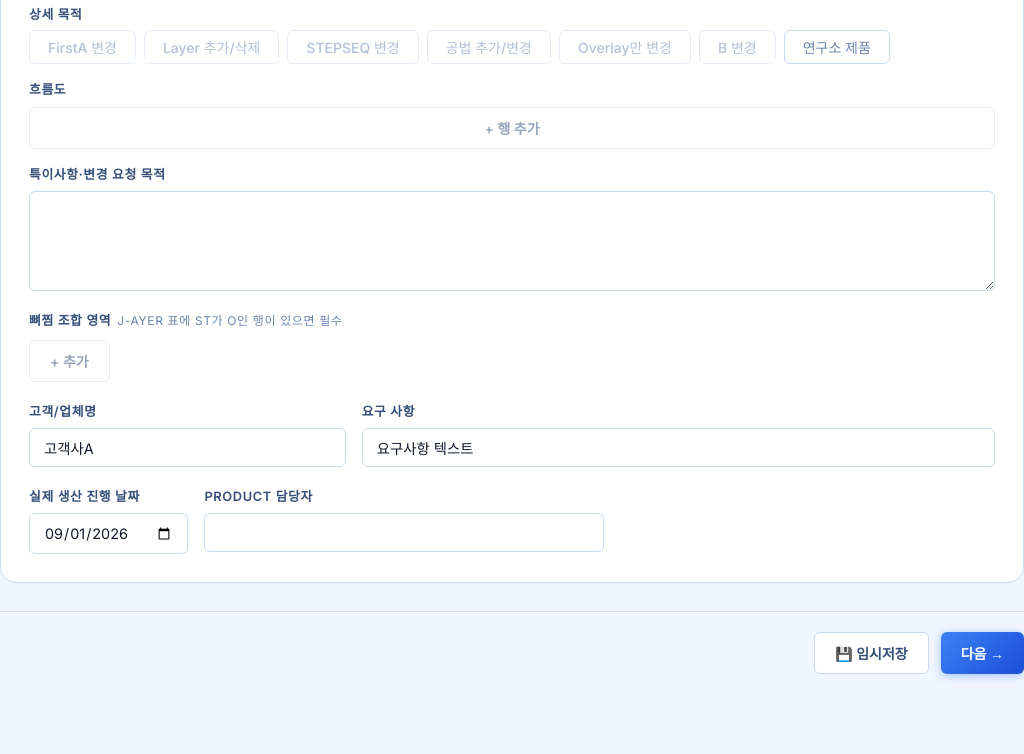
Scenario: 합의자가 필수에서 필수 아님으로 바뀌면 SA 지정·사유·체크가 모두 초기화된다 › SA 를 지정해 둔 문서: 변경 없음으로 돌리면 저장 payload 의 sales_agreers 가 비워진다(되돌려도 복구되지 않는다)
The width and height of the screenshot is (1024, 754).
(page scrolled)
Check: the field showing "고객사A" below "고객/업체명" is shown, box [29,428,346,467]
Click the button "다음 →" at coordinates (982, 653), box [941,632,1023,674]
(page scrolled)
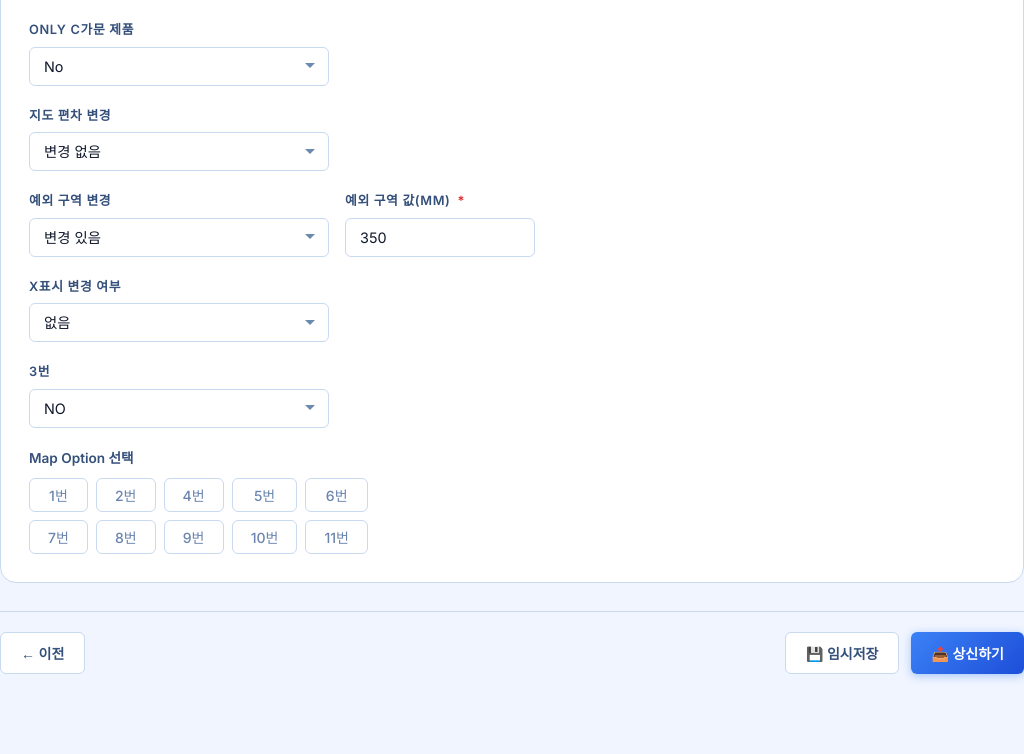
Check: the button "📤 상신하기" is shown, box [912,632,1023,674]
Click the button "💾 임시저장" at coordinates (842, 652), box [785,632,899,674]
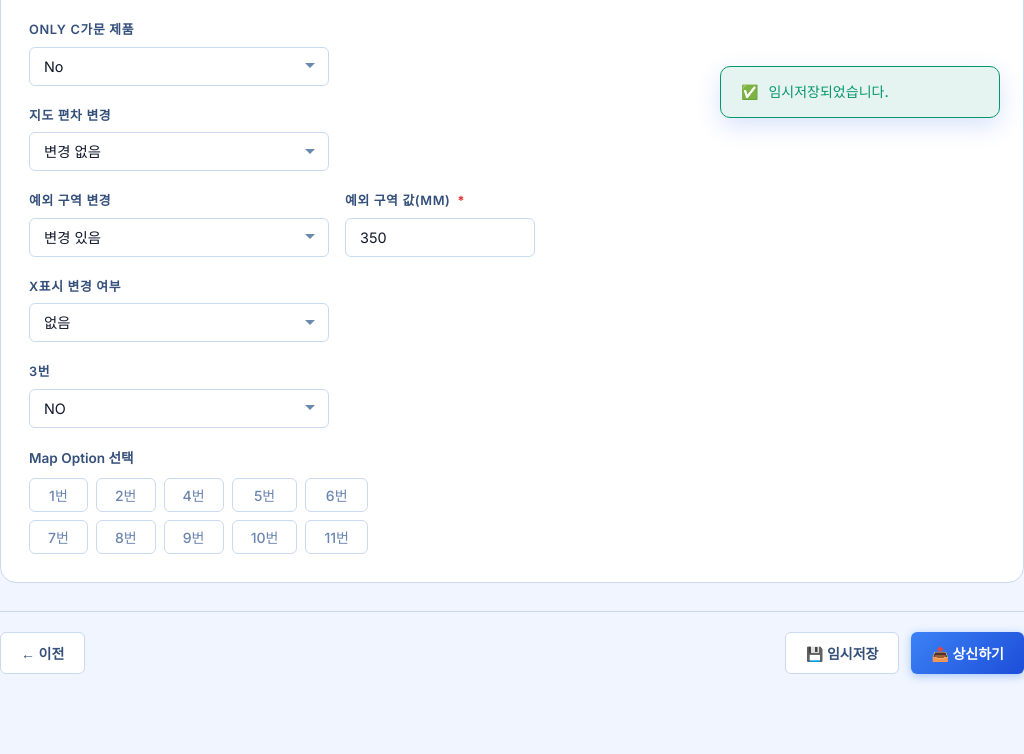
Select "변경 없음 (300)" in the dropdown named "ea_change" below "예외 구역 변경" at coordinates (179, 237), box [29,218,329,257]
Click the button "💾 임시저장" at coordinates (842, 652), box [785,632,899,674]
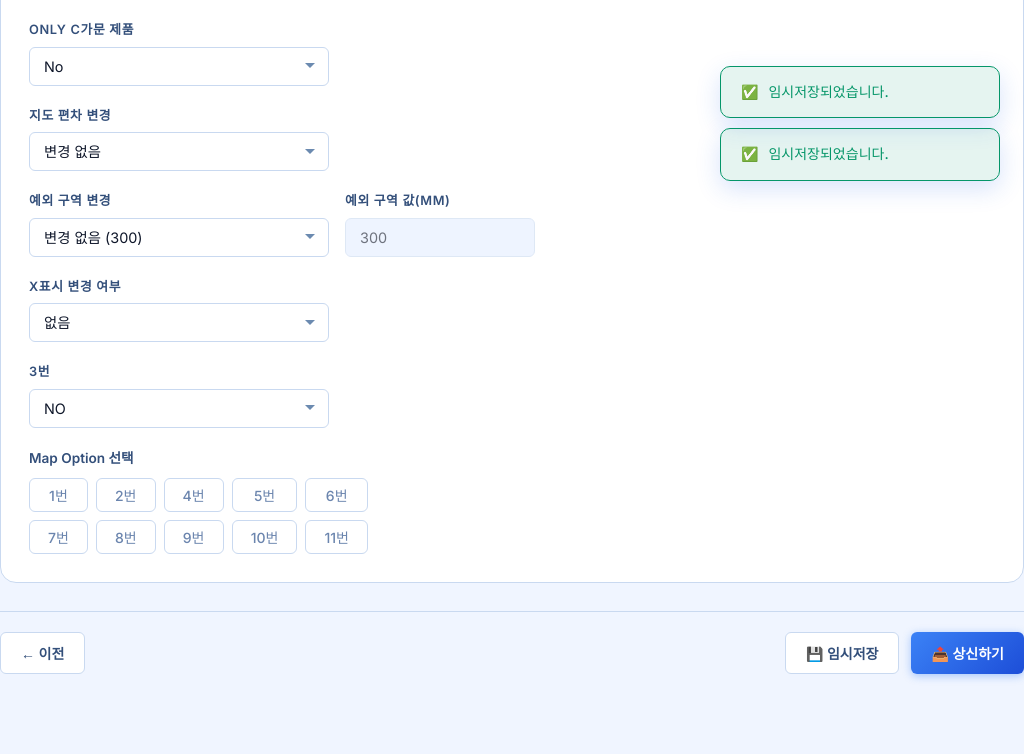
Select "변경 있음" in the dropdown named "ea_change" below "예외 구역 변경" at coordinates (179, 237), box [29,218,329,257]
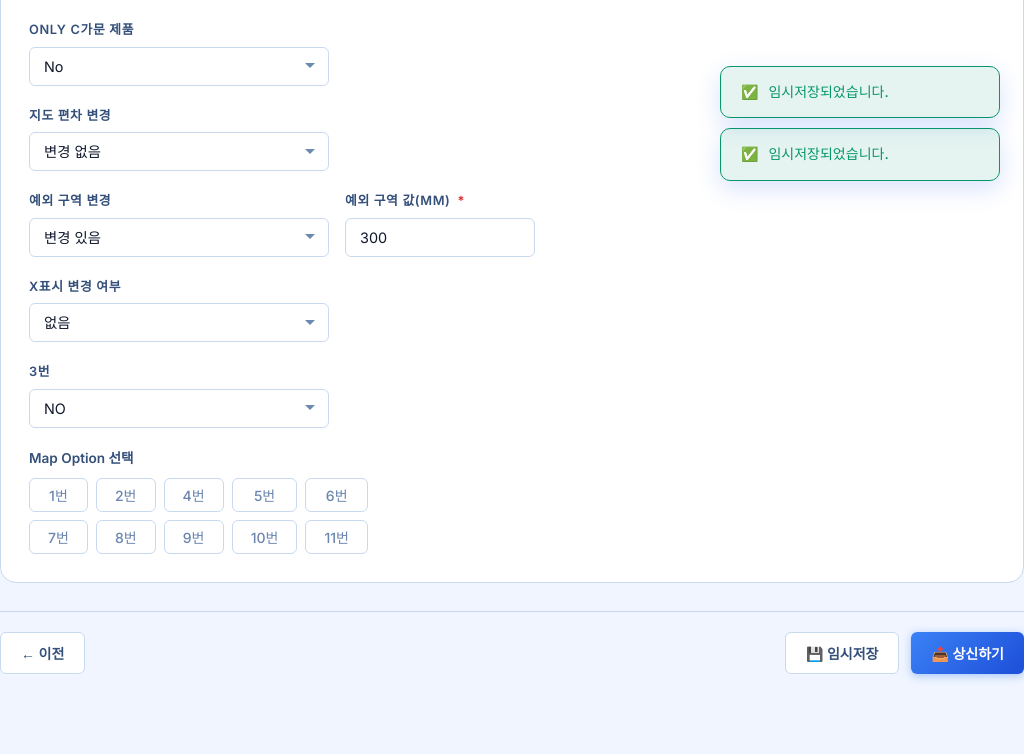
Replace the text in the field named "ea_value" with "350" at coordinates (440, 237), box [345,218,535,257]
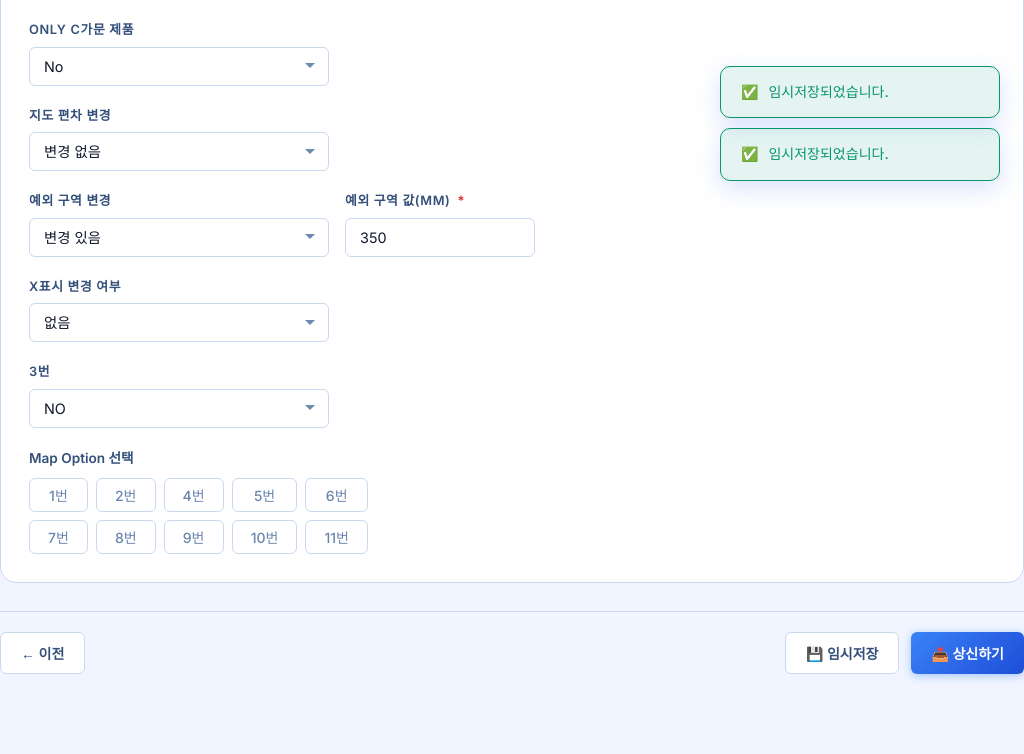
Click the button "📤 상신하기" at coordinates (968, 652), box [912,632,1023,674]
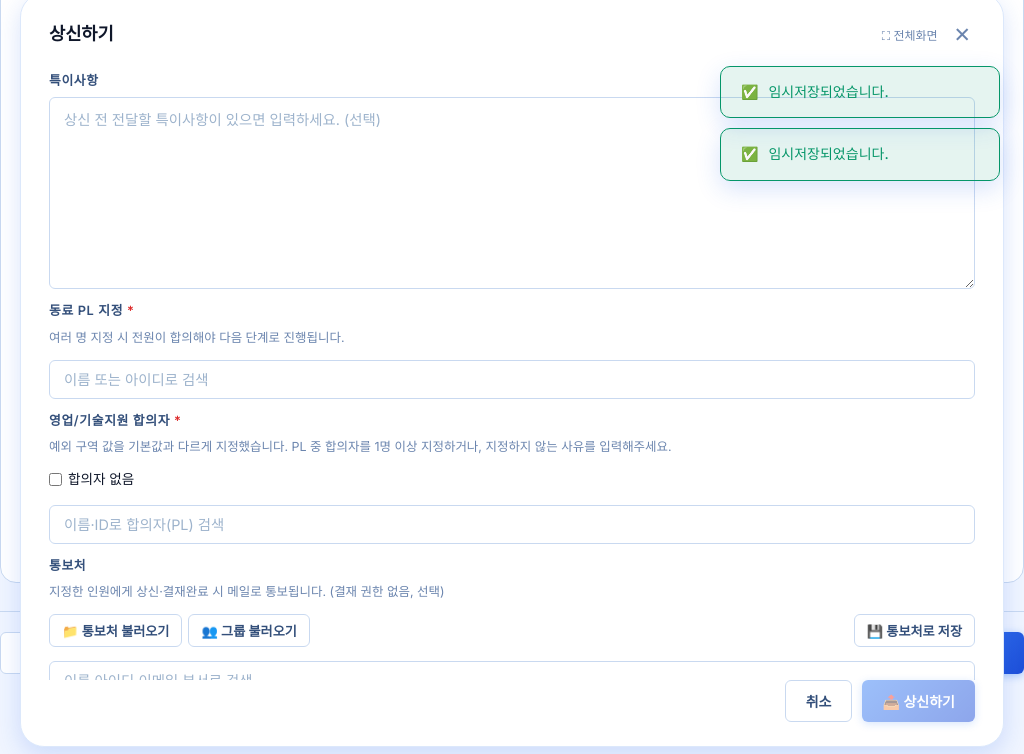
Check: the element that starts with "영업/기술지원 합의자" is shown, box [49,410,975,544]
